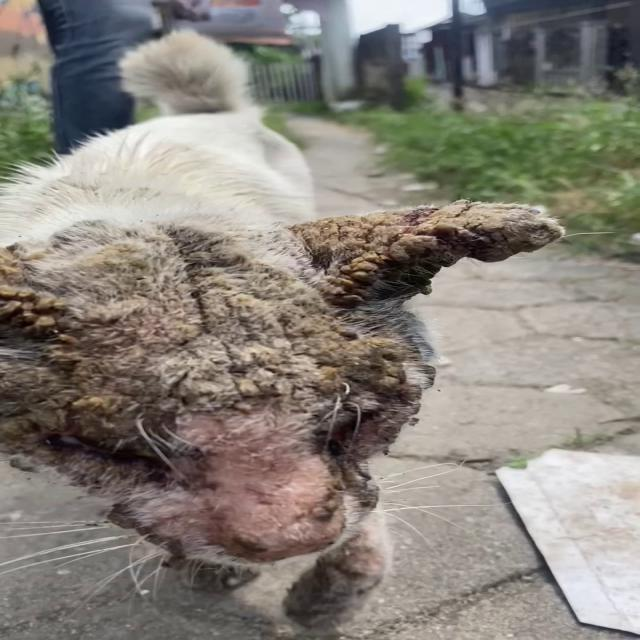ghe: (0, 228, 356, 554), (248, 195, 564, 353)
